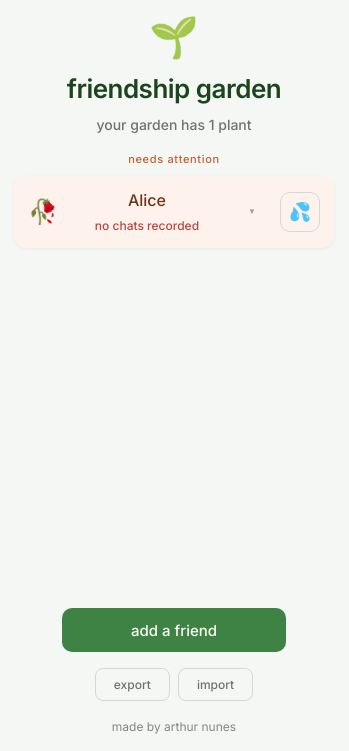
Test: App › history › shows history in newest-first order
The width and height of the screenshot is (349, 751).
Click the button named "details for alice" at (252, 212), box [236, 192, 268, 232]
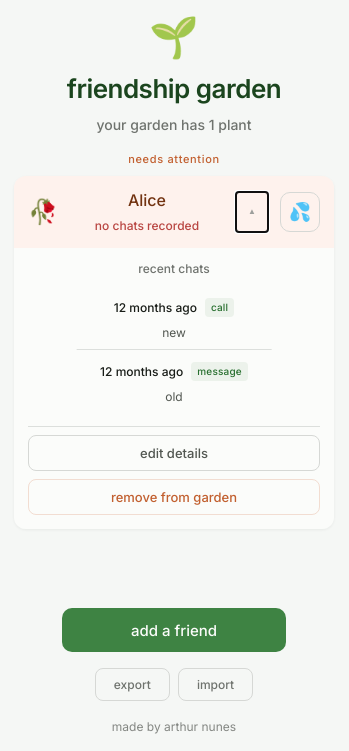
Result: the text "New" is shown at [162, 324, 186, 340]
Result: the text "Old" is shown at [165, 388, 183, 404]
